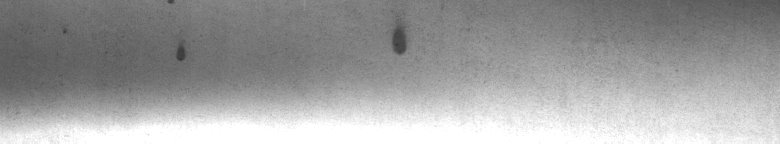fi: (385, 20, 413, 60)
